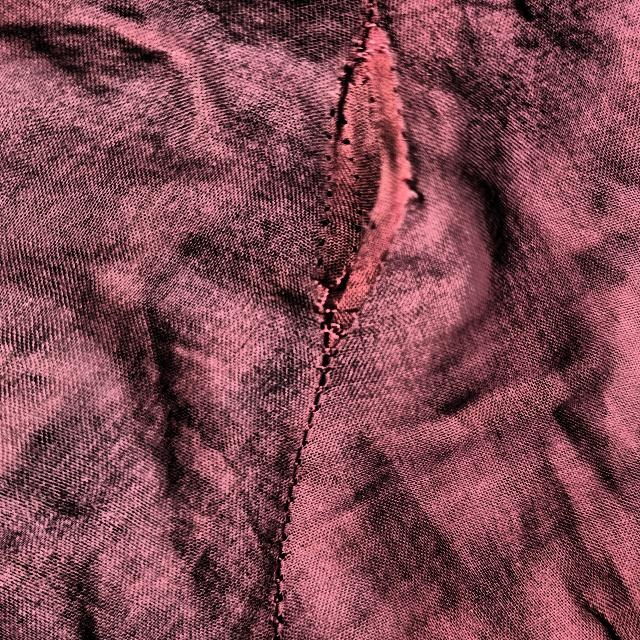seam: (198, 0, 505, 422)
